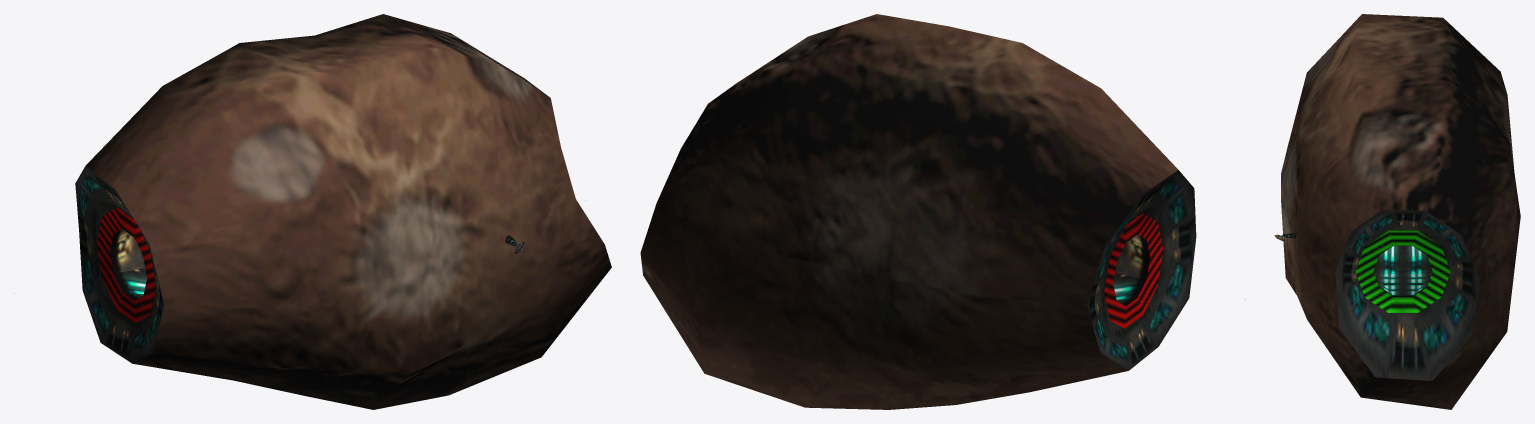
The picture shows the model from 3 angles, left to right: view 1: azimuth 30°, elevation 25°; view 2: azimuth 150°, elevation 25°; view 3: azimuth 270°, elevation 25°; orthographic projection. The views are drawn at different scales.
Visible parts, largest first — view 1: frm-poly_bean; view 2: frm-poly_bean; view 3: frm-poly_bean.
Part boxes in pixels (bbox=[...]): frm-poly_bean: bbox=[75, 14, 611, 409]; frm-poly_bean: bbox=[640, 14, 1196, 409]; frm-poly_bean: bbox=[1281, 14, 1520, 409].
Size of the model in its own units: 11.35 by 6.67 by 5.17.
